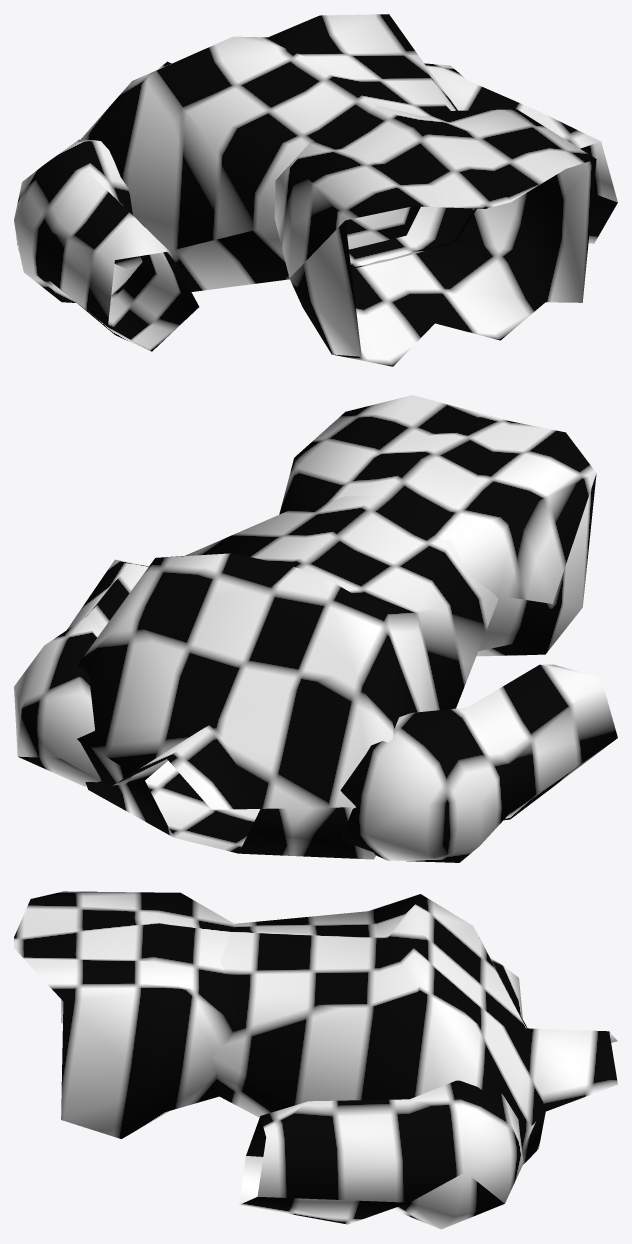
The model's file is initarsh14.dae.
The picture shows the model from 3 angles, top to bottom: view 1: azimuth 30°, elevation 25°; view 2: azimuth 150°, elevation 25°; view 3: azimuth 270°, elevation 25°; orthographic projection. The views are drawn at different scales.
Visible parts, largest first — view 1: armor; view 2: armor; view 3: armor.
Part boxes in pixels (x1,y1,x2,y2): armor: (14,14,617,366); armor: (14,395,617,862); armor: (14,891,617,1229).
Bounding box in the file's own units: 1.63 × 1.86 × 0.7462.
Materials: 1 (1 with a texture image).
